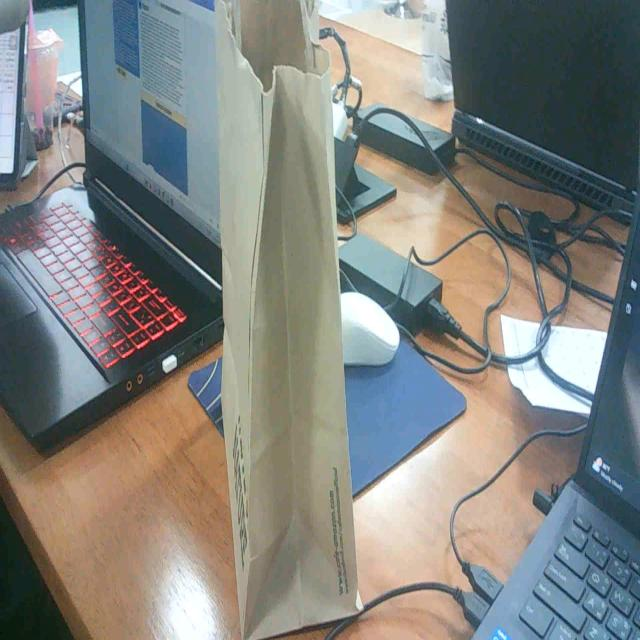bag: (189, 0, 370, 640)
